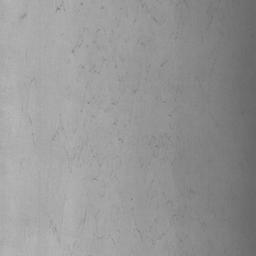Silk spot: (52, 127, 64, 141), (79, 210, 87, 228), (56, 0, 65, 13), (19, 13, 27, 22)
